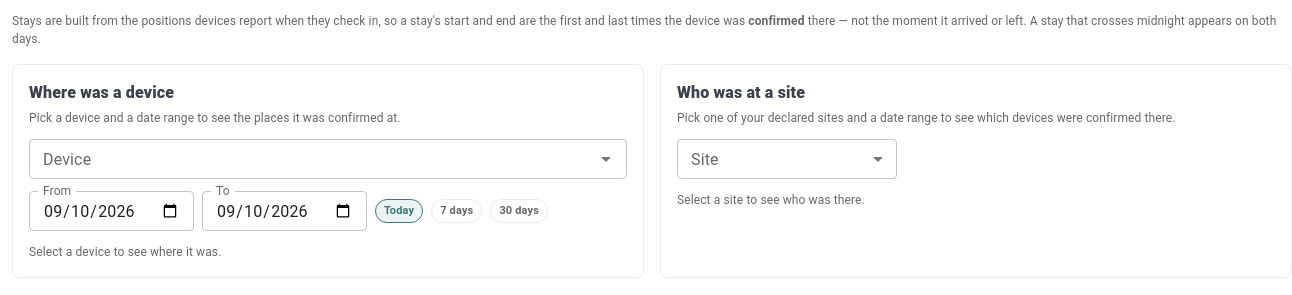
LocationExplorer › ⚠️ una petición que FALLA no se presenta como un día sin estancias
The image size is (1292, 295).
Press ArrowDown in the dropdown labelled "Device", box x1=35 y1=145 x2=588 y2=173
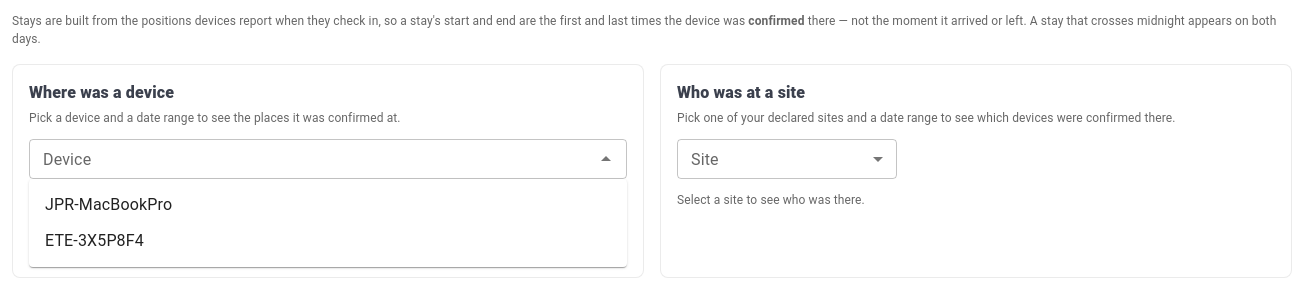
Click the option "ETE-3X5P8F4". click: (94, 240)
box: x1=45 y1=231 x2=144 y2=250
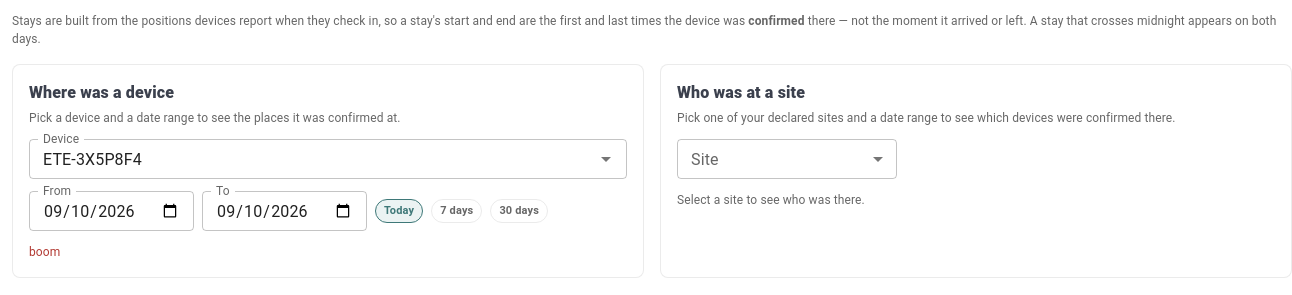
Check: the text "boom" is shown, box x1=29 y1=245 x2=60 y2=259
